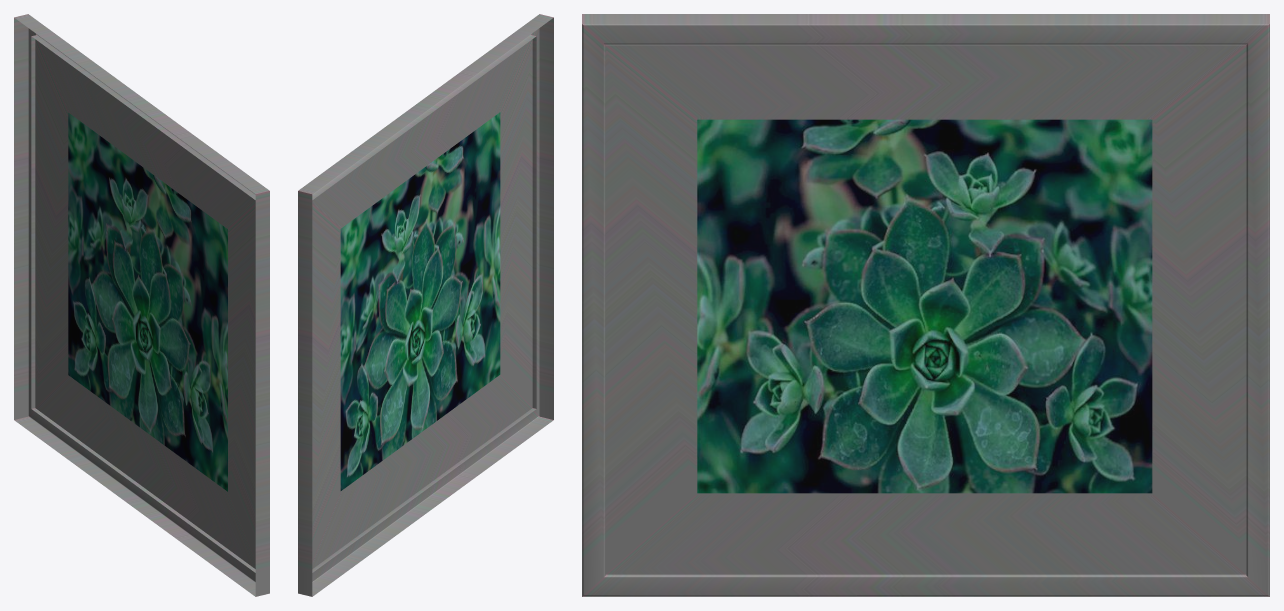
The model's file is WallPainting0025.obj.
3 views of the same model, side by side, from view 1: azimuth 30°, elevation 25°; view 2: azimuth 150°, elevation 25°; view 3: azimuth 270°, elevation 25° (orthographic). The views are drawn at different scales.
Bounding box in the file's own units: 0.011 × 0.296 × 0.322.
Materials: 1 (1 with a texture image).
